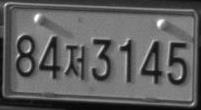1: (115, 37, 138, 82)
3: (90, 38, 111, 81)
4: (38, 34, 60, 80), (139, 40, 162, 84)
5: (167, 41, 187, 86)
8: (14, 34, 35, 77)
저: (63, 44, 85, 80)
